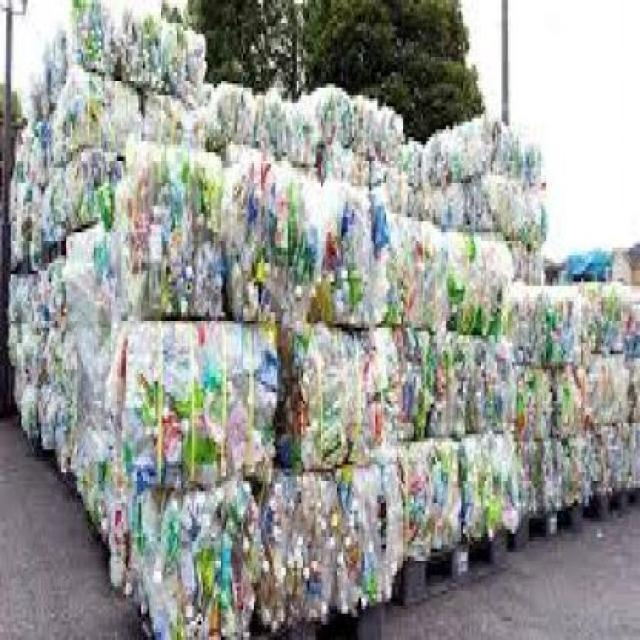garbage: (17, 118, 638, 636), (34, 0, 208, 129)
